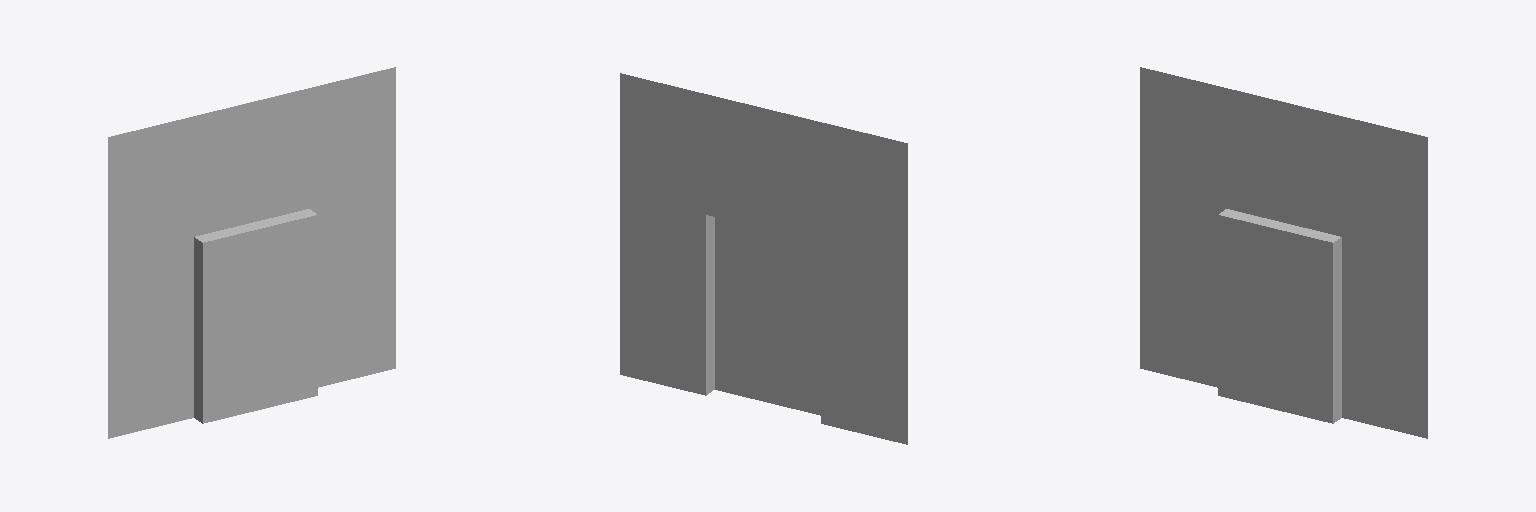
Rendered from wall-pane-painted-wood-door.obj.
3 renders of one model, left to right at view 1: azimuth 30°, elevation 25°; view 2: azimuth 150°, elevation 25°; view 3: azimuth 330°, elevation 25°, orthographic.
Visible parts, largest first — view 1: wall-pane-painted-wood-door; view 2: wall-pane-painted-wood-door; view 3: wall-pane-painted-wood-door.
Boxes of the visible parts, x1=… form: wall-pane-painted-wood-door: x1=108, y1=67, x2=395, y2=438; wall-pane-painted-wood-door: x1=620, y1=73, x2=907, y2=444; wall-pane-painted-wood-door: x1=1140, y1=67, x2=1427, y2=438.
Size of the model in its own units: 1 by 1 by 0.05.